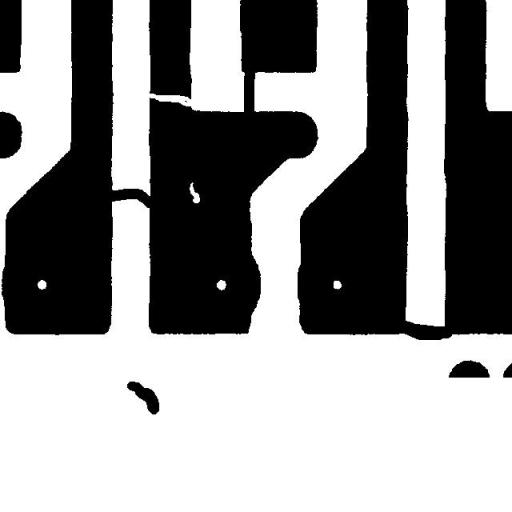copper: (120, 374, 166, 422)
open: (136, 84, 206, 114)
pin-hole: (182, 174, 207, 210)
short: (385, 312, 460, 347), (98, 181, 162, 215), (236, 56, 262, 123)
